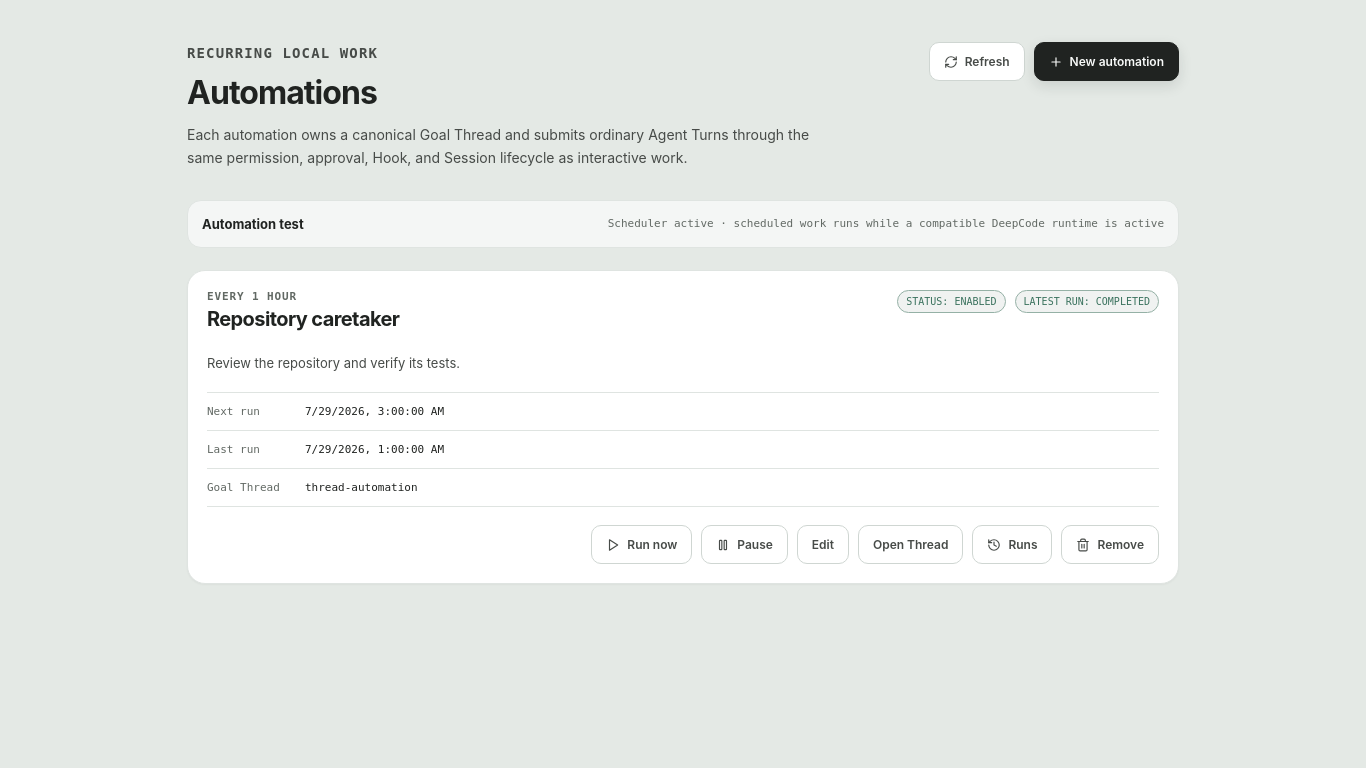
Test case: AutomationsPage › edits and removes through the shared Automation methods
Expected: the heading "Repository caretaker" is shown, top-left (207, 306), bottom-right (399, 330)
Click the button "Edit".
click(823, 545)  # box top-left (797, 525), bottom-right (849, 564)
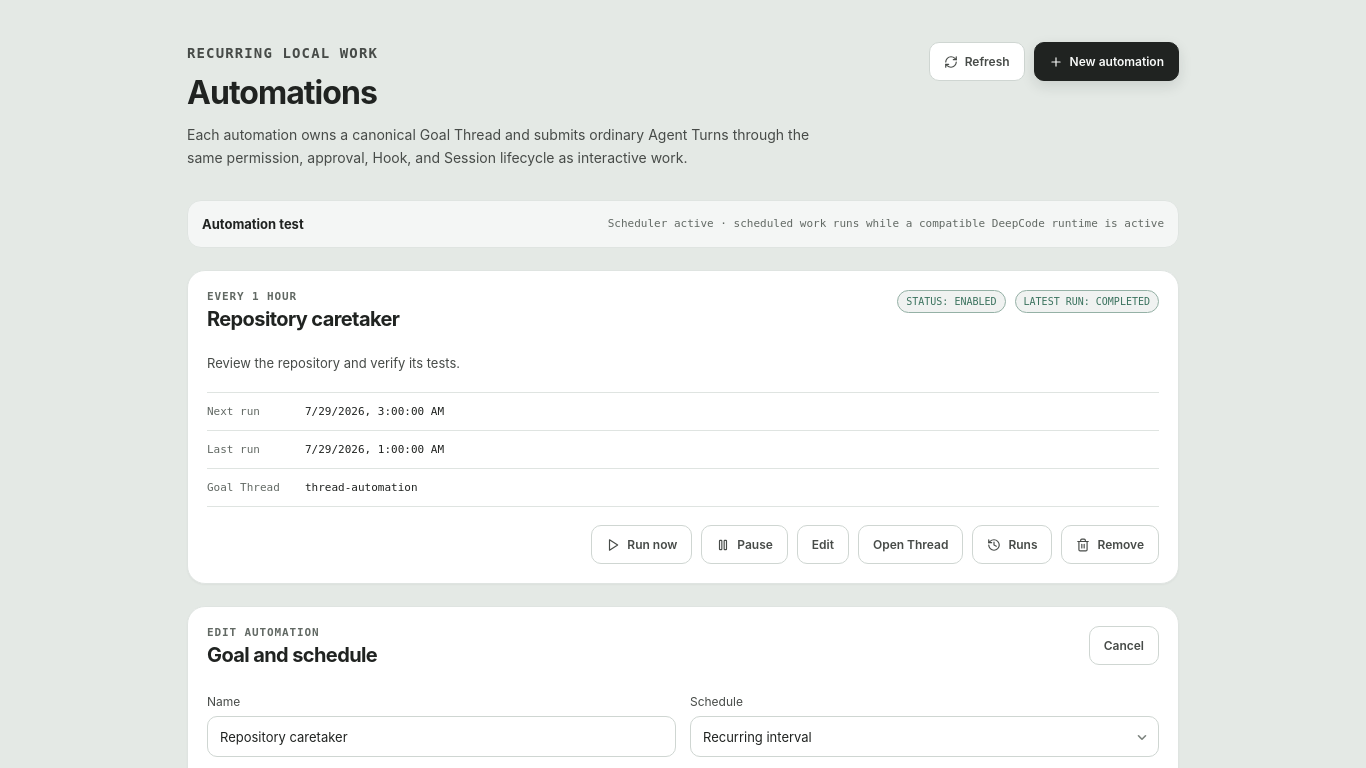
Replace the text in the field labelled "Name" with "Updated caretaker" at coordinates (442, 737), box top-left (207, 716), bottom-right (676, 757)
(page scrolled)
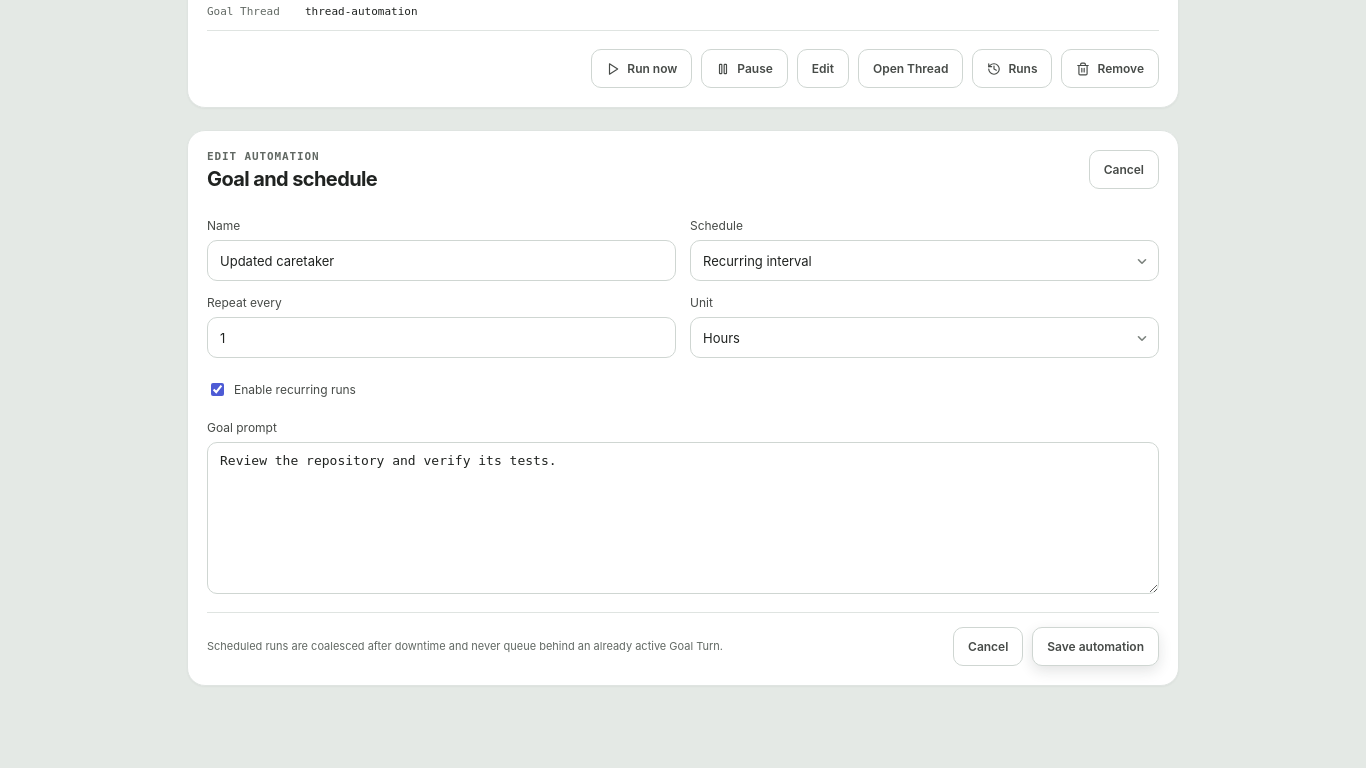
Replace the text in the text box labelled "Goal prompt" with "Inspect, repair, and verify." at coordinates (683, 518), box top-left (207, 442), bottom-right (1159, 594)
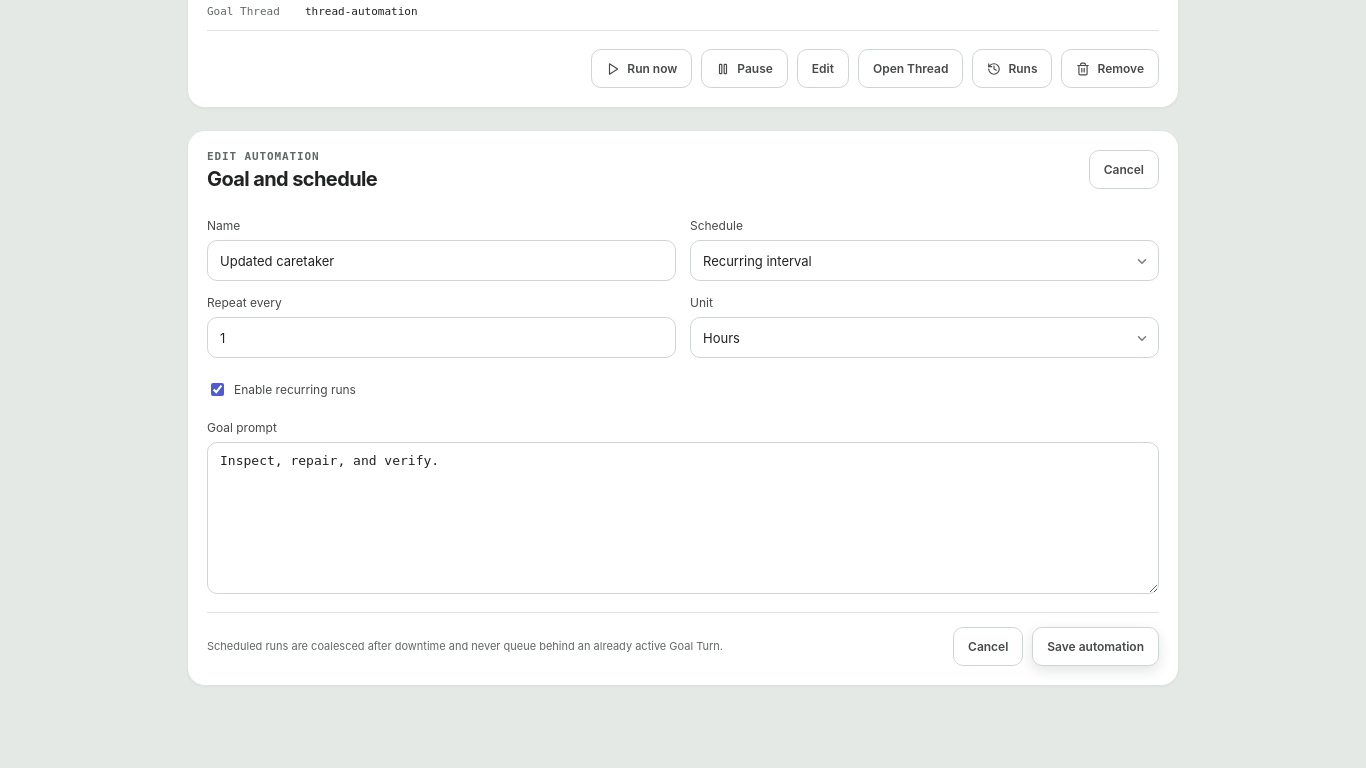
Click the button "Save automation".
click(1096, 647)  # box top-left (1032, 627), bottom-right (1159, 666)
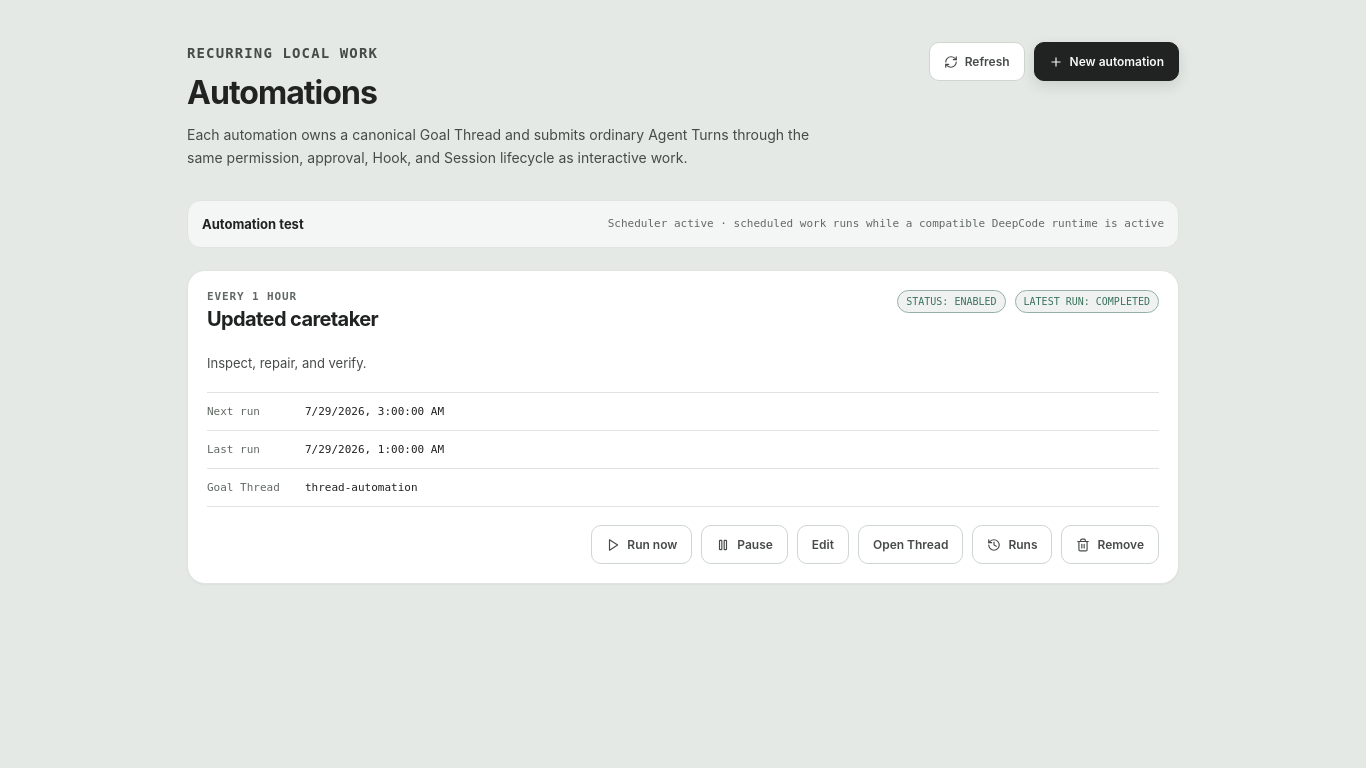
Expected: the heading "Updated caretaker" is shown, top-left (207, 306), bottom-right (378, 330)
Click the button "Remove".
click(1110, 545)  # box top-left (1062, 525), bottom-right (1159, 564)
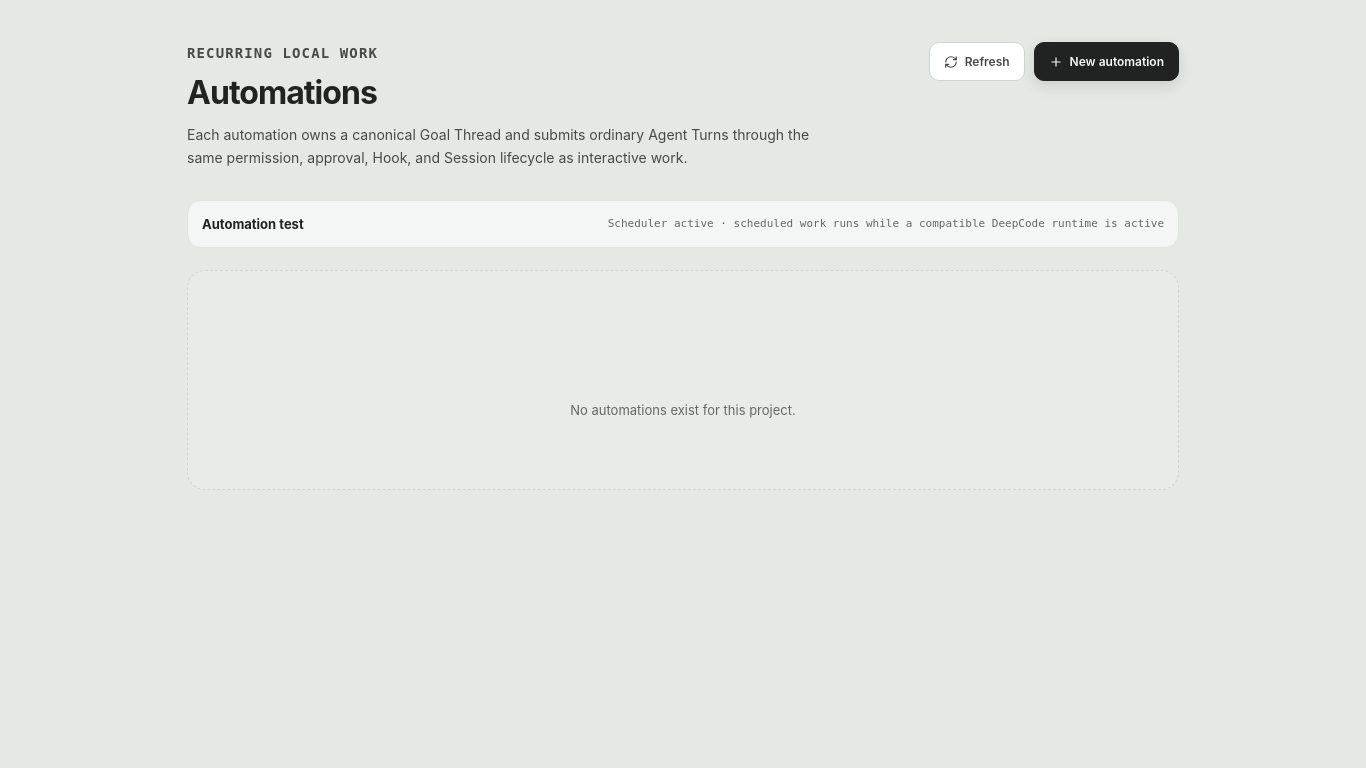
Expected: the heading "Updated caretaker" is gone
